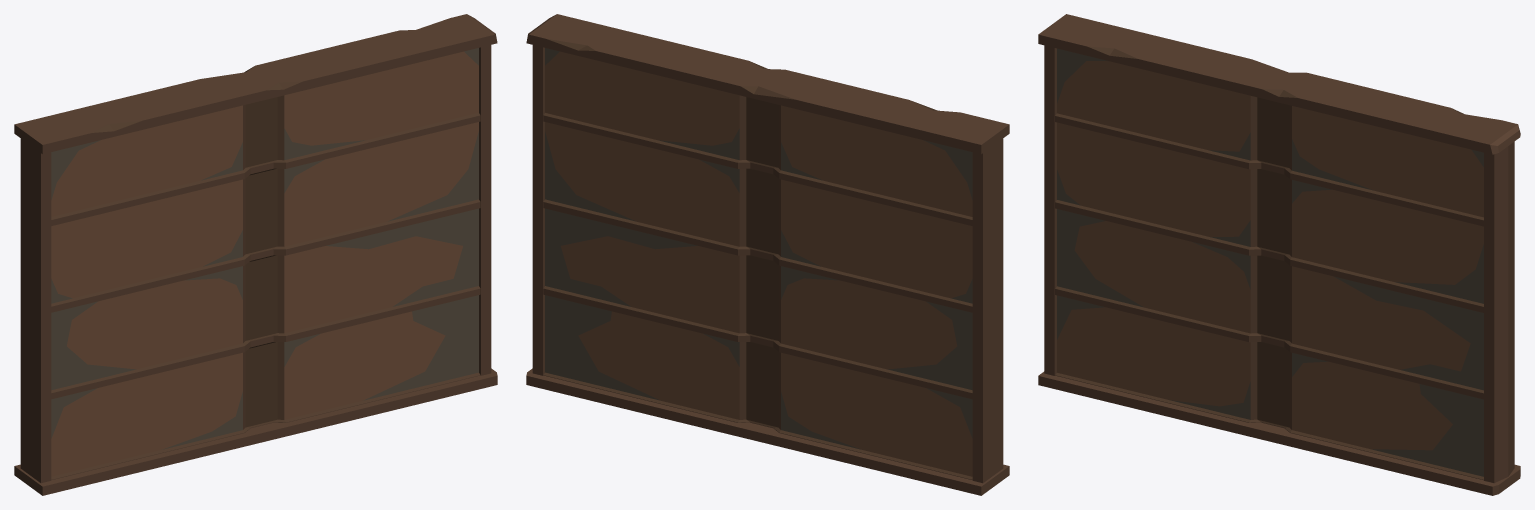
Rendered from SM_Env_Port_Drydock_Gate_01.fbx.
3 renders of one model, left to right at view 1: azimuth 30°, elevation 25°; view 2: azimuth 150°, elevation 25°; view 3: azimuth 330°, elevation 25°, orthographic.
Parts seen in each view (by area): view 1: SM_Env_Port_Drydock_Gate_01; view 2: SM_Env_Port_Drydock_Gate_01; view 3: SM_Env_Port_Drydock_Gate_01.
Boxes of the visible parts, x1,y1,x2,y2 form: SM_Env_Port_Drydock_Gate_01: (14, 14, 497, 495); SM_Env_Port_Drydock_Gate_01: (526, 14, 1009, 495); SM_Env_Port_Drydock_Gate_01: (1038, 14, 1520, 495).
Size of the model in its own units: 2039 by 1494 by 217.
